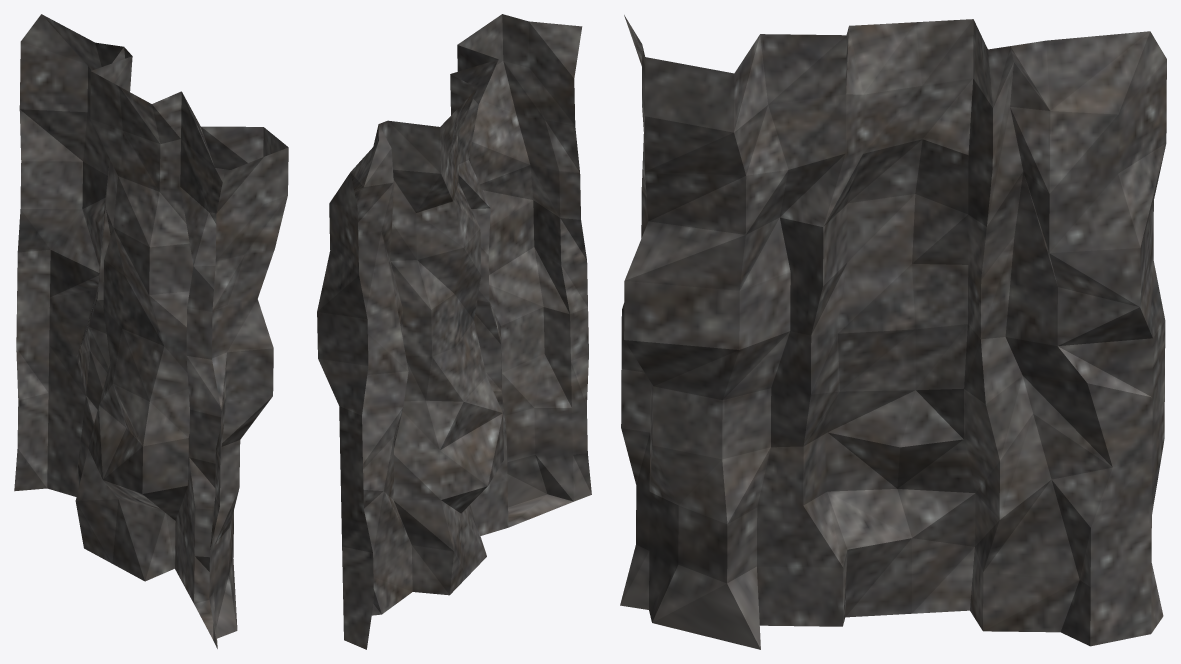
The model's file is Cliff_medium.fbx.
3 renders of one model, left to right at view 1: azimuth 30°, elevation 25°; view 2: azimuth 150°, elevation 25°; view 3: azimuth 270°, elevation 25°, orthographic. The views are drawn at different scales.
Parts seen in each view (by area): view 1: Plane_1; view 2: Plane_1; view 3: Plane_1.
Part boxes in pixels (bbox=[...]): Plane_1: bbox=[14, 14, 288, 648]; Plane_1: bbox=[317, 14, 591, 649]; Plane_1: bbox=[620, 15, 1166, 649].
Bounding box in the file's own units: 64.33 × 309 × 252.
1 material, 1 textured.
